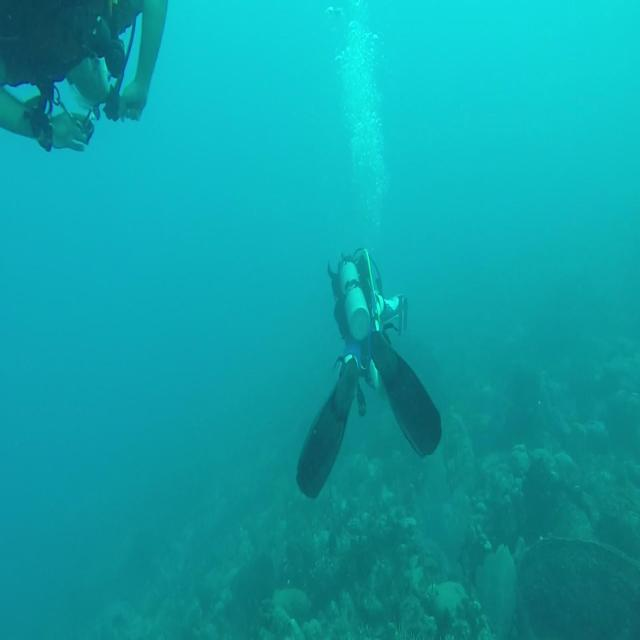human: (296, 246, 442, 500), (0, 0, 168, 153)
